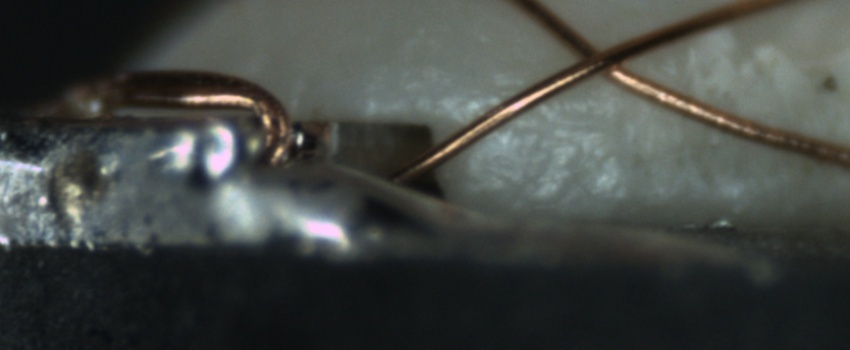CL: (551, 24, 649, 91)
DL: (407, 79, 634, 139)
TE: (107, 61, 313, 178)
